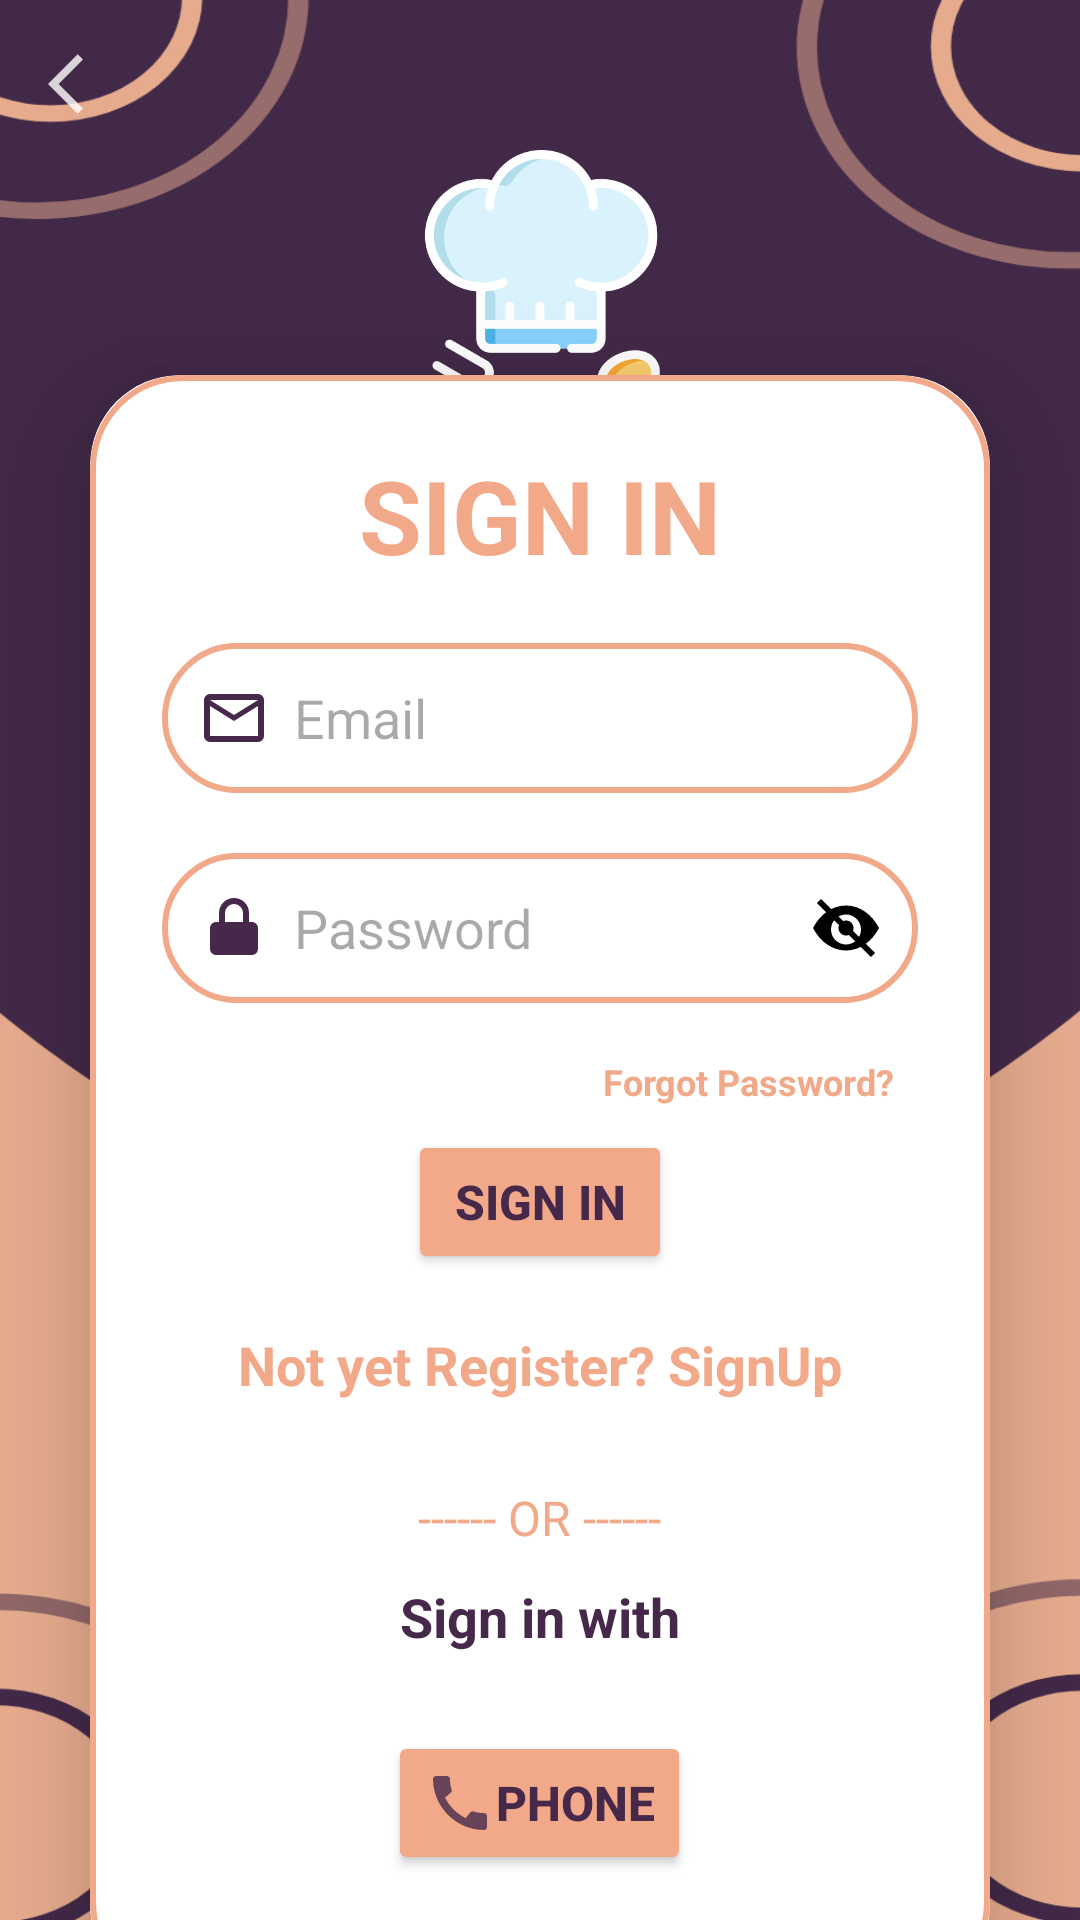

Point at icon controls on the screen. Image size 1080×1920, points as (x,y).
arrow back: (84,87)
chef: (541,251)
